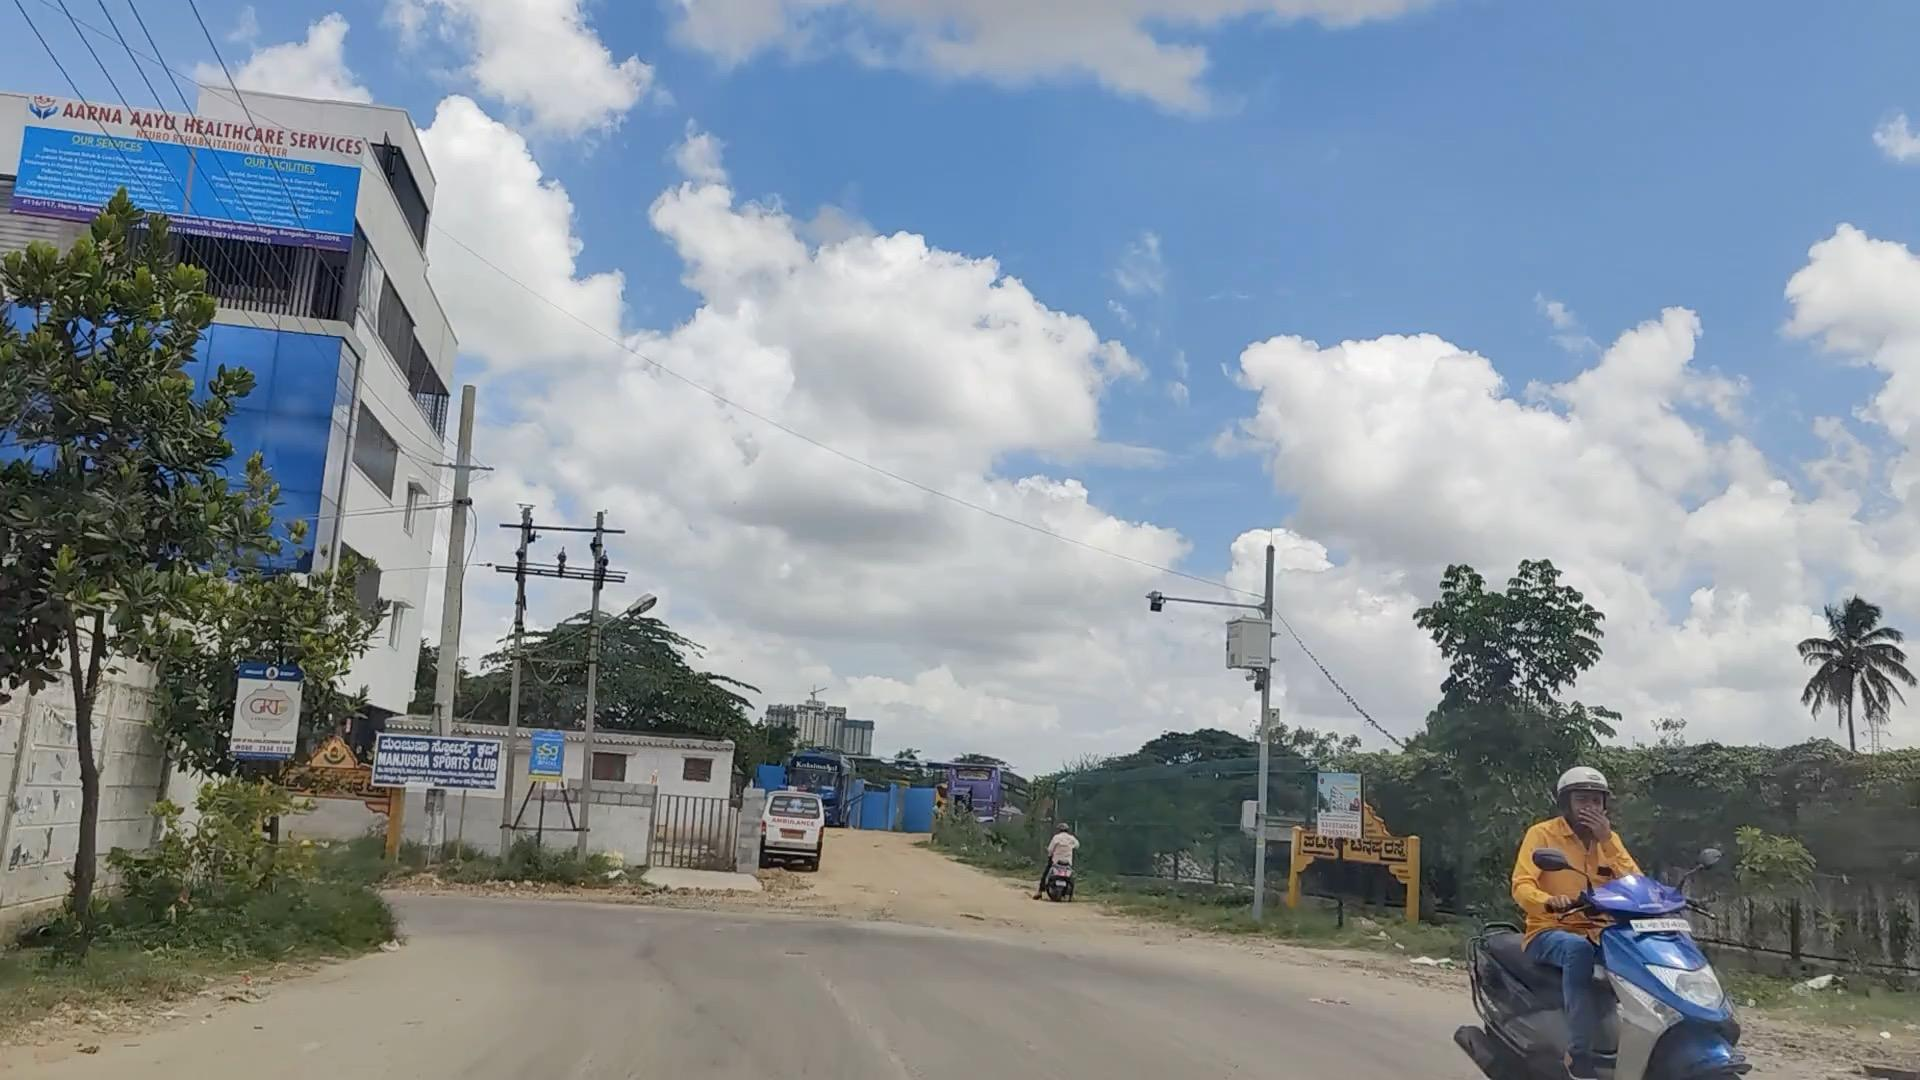LMV: (1480, 750, 1725, 1080)
